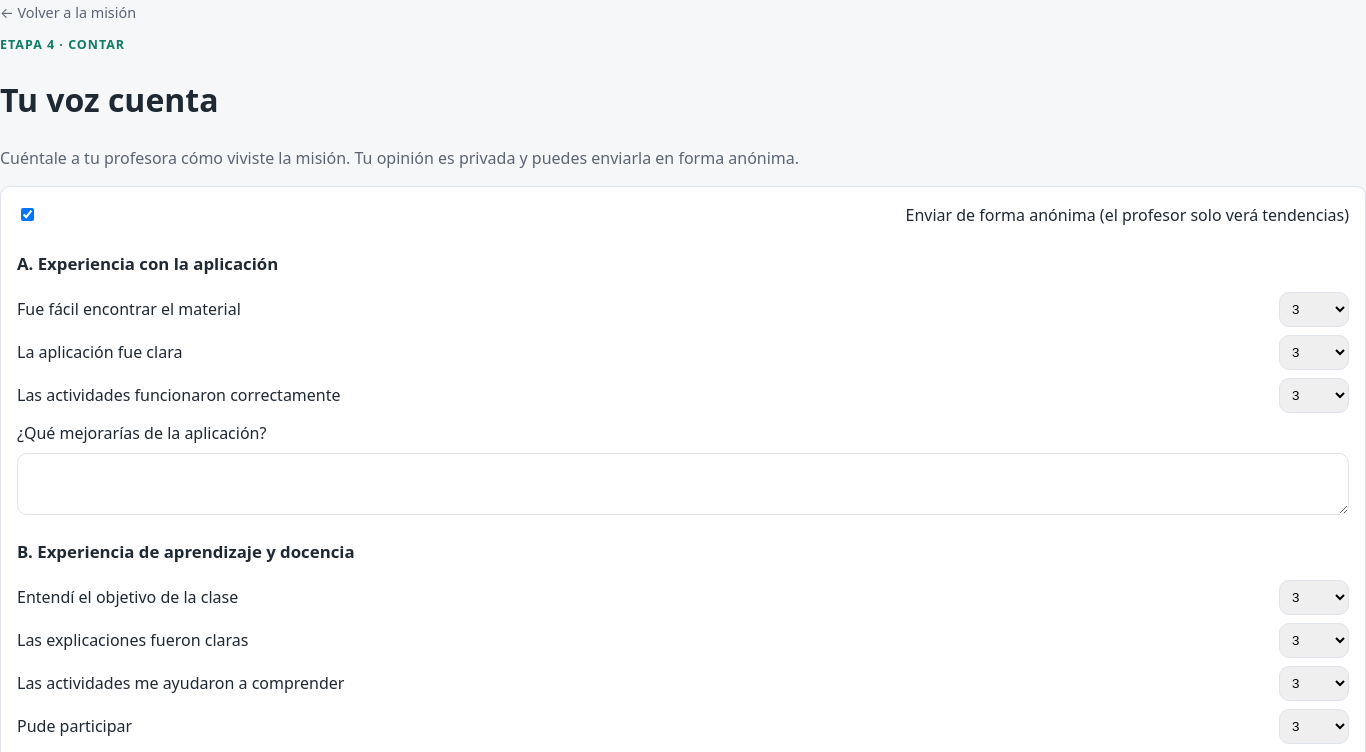
Test: FeedbackView › envía el feedback con anonimato por defecto
Type "Todo bien" into the text box with id "app-open".
click(683, 484); type("Todo bien")  # box 17,453 -> 1349,515
(page scrolled)
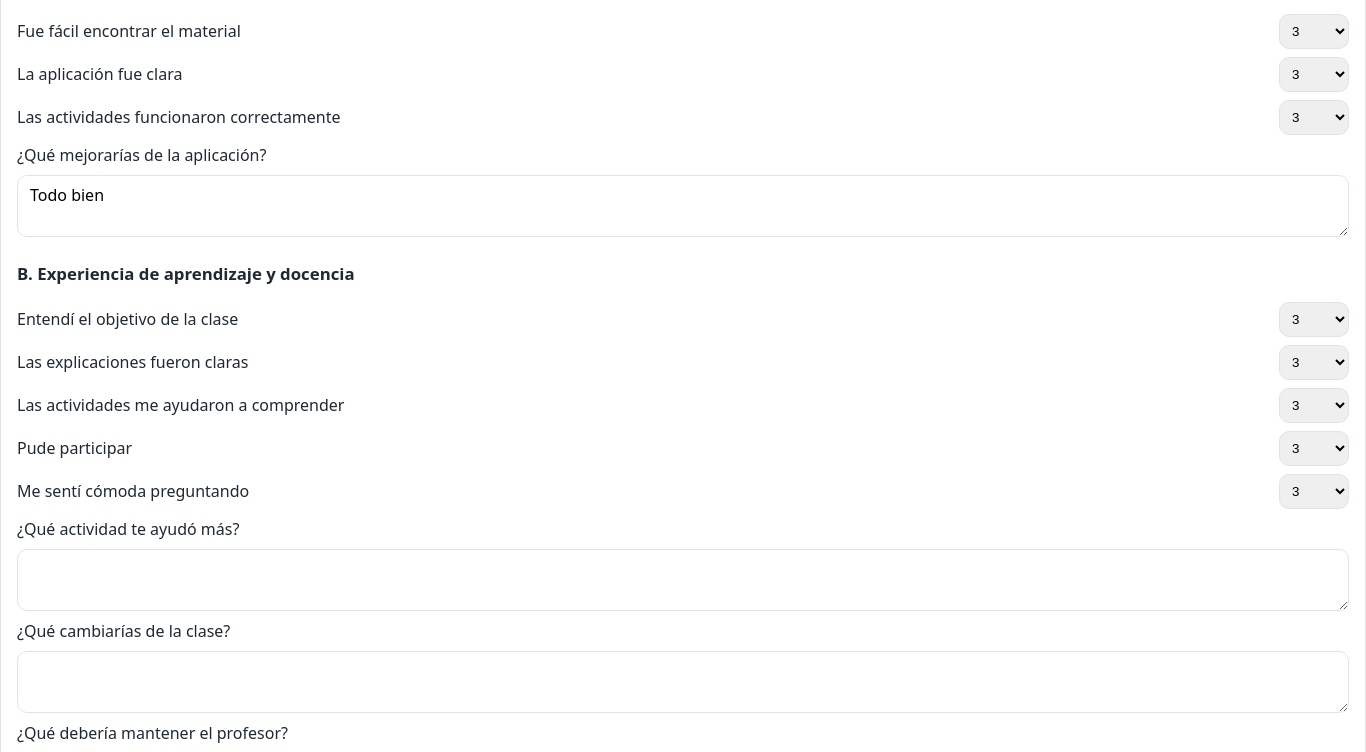
Submit the form
(page scrolled)
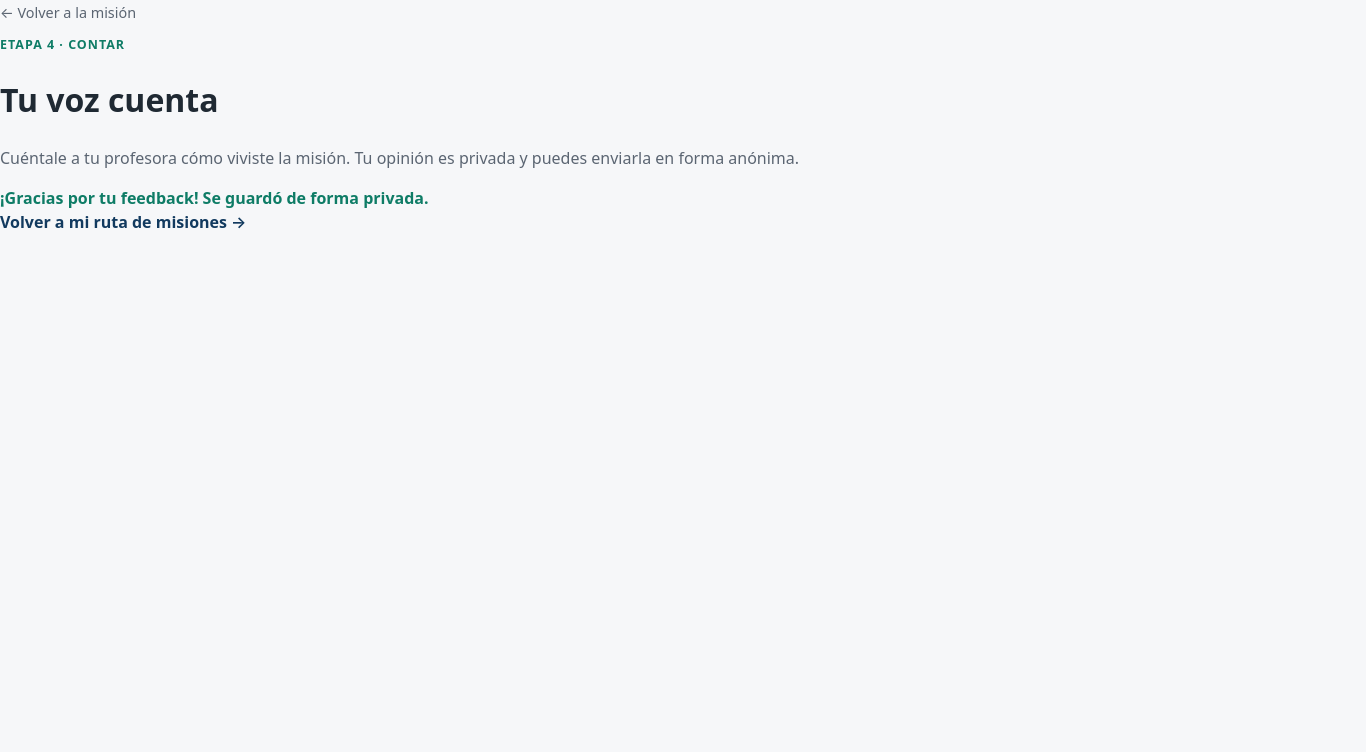
Expected: the text "¡Gracias por tu feedback!" is shown, 0,187 -> 428,209
